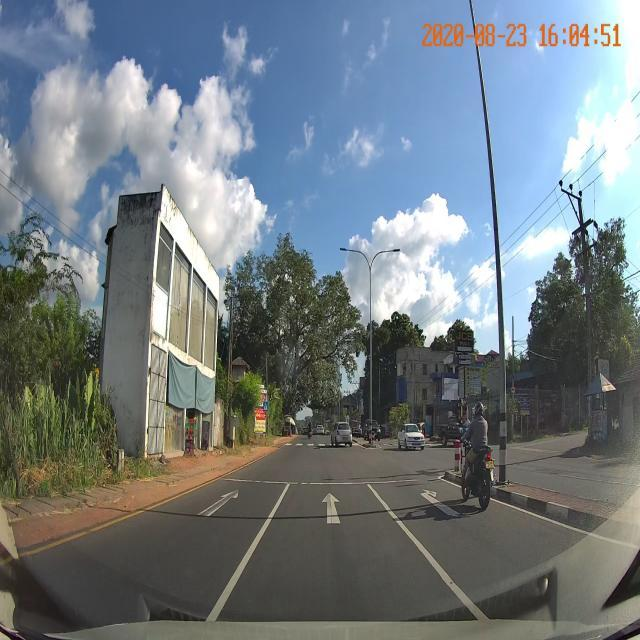forward: (253, 485, 416, 535)
